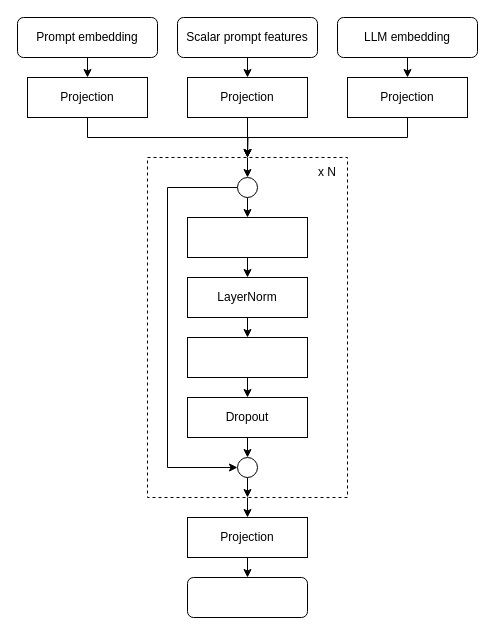
Image size: 495x635. Some labels were removed from this diagram. The centre of each missing label's shape, as x and y in pixels:
"Dense layer" belongs at [247,237].
"LeakyReLU" belongs at [247,357].
"Predicted length" belongs at [247,597].
